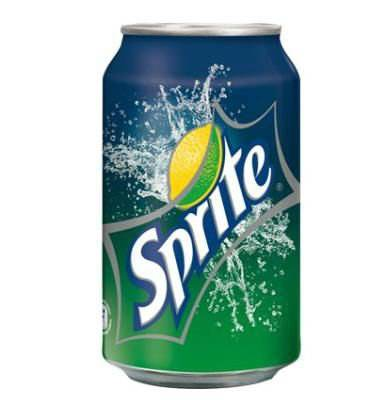Sprite: (84, 19, 322, 388)
